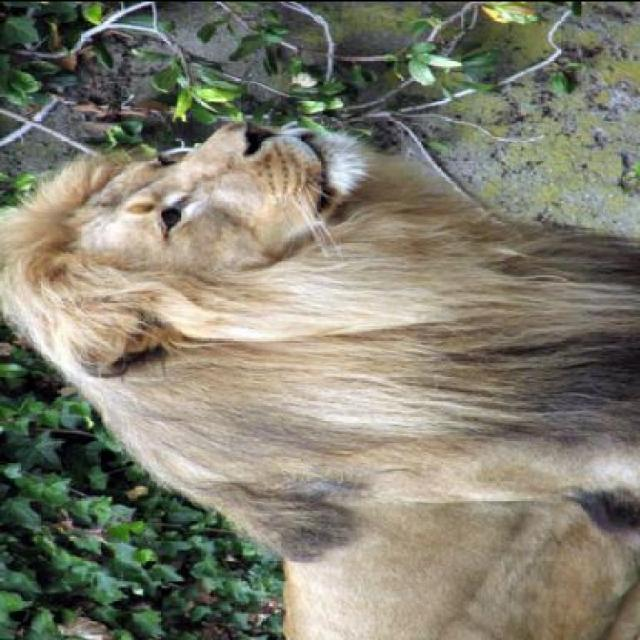Lion: (3, 91, 639, 638)
